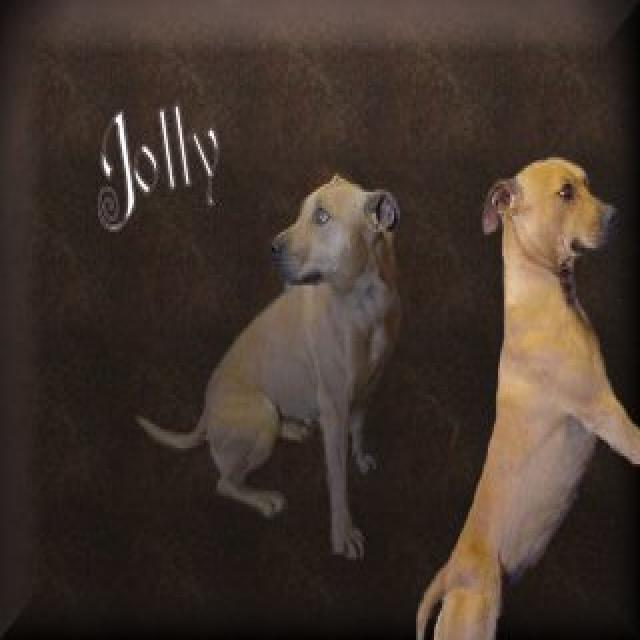Dogs: (412, 155, 638, 637), (134, 170, 402, 562)
